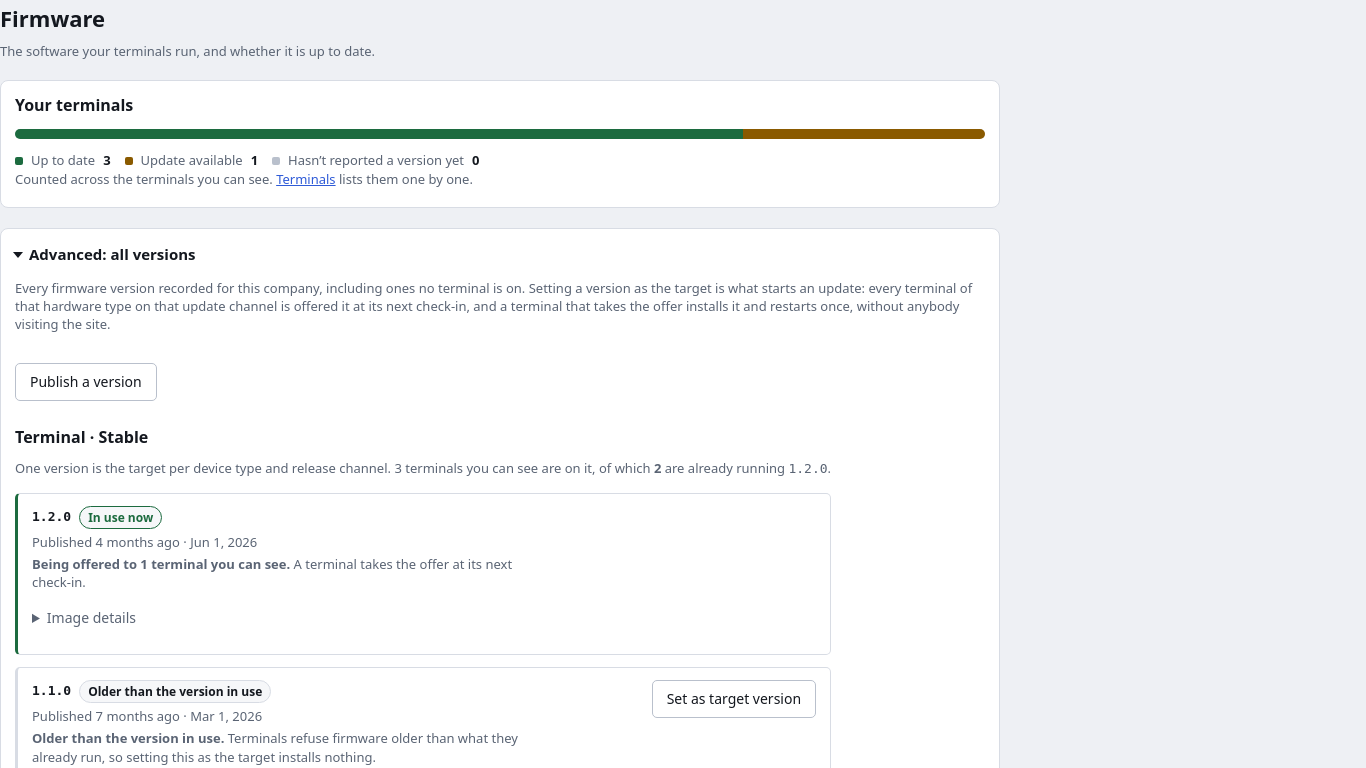
Test: setting an older version as the target › SAYS NOTHING WILL BE INSTALLED, which is the truth the old copy inverted
Check: the heading "Your terminals" is shown, box [15,94,133,116]
Click the button "Set as target version" at coordinates (734, 699), box [652,680,816,718]
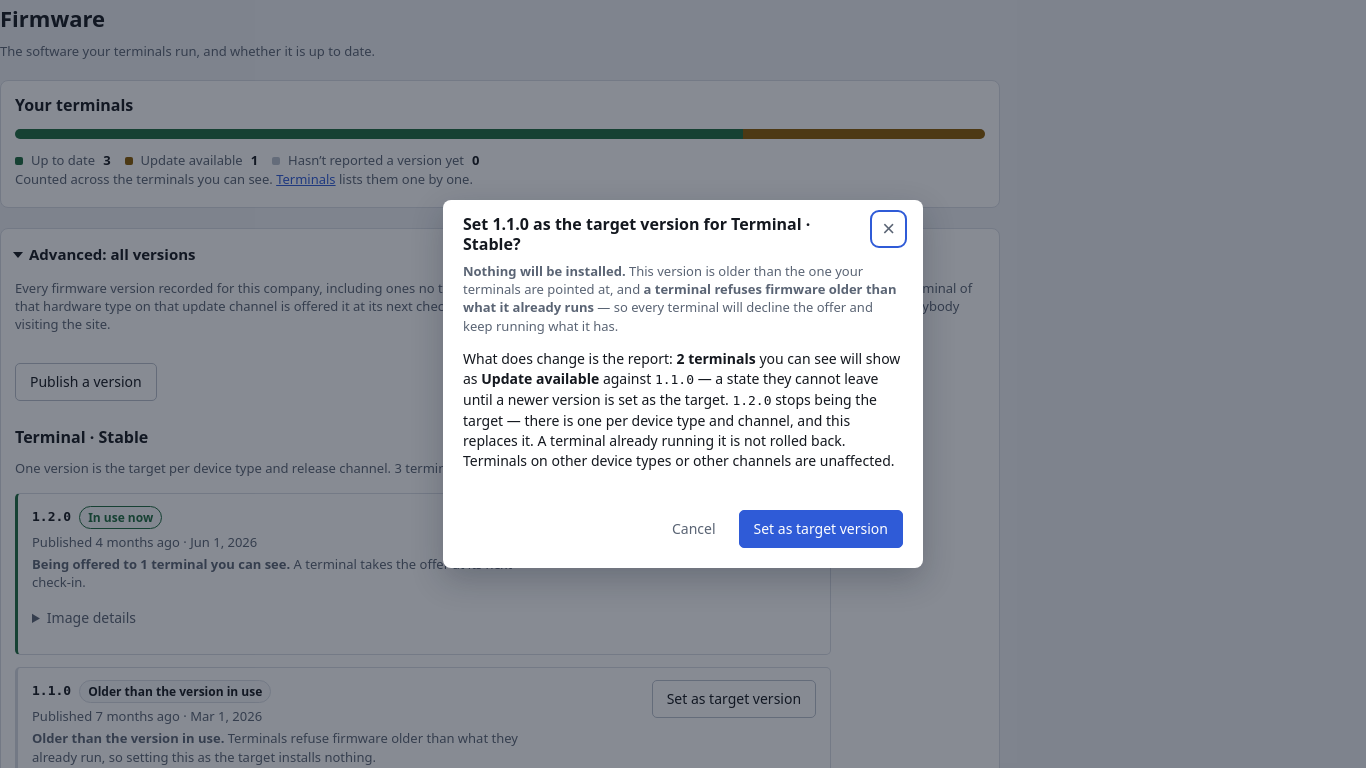
Check: the text "Nothing will be installed." is shown, box [463,262,626,280]
Check: the text "a terminal refuses firmware older than what it already runs" is shown, box [463,280,896,316]
